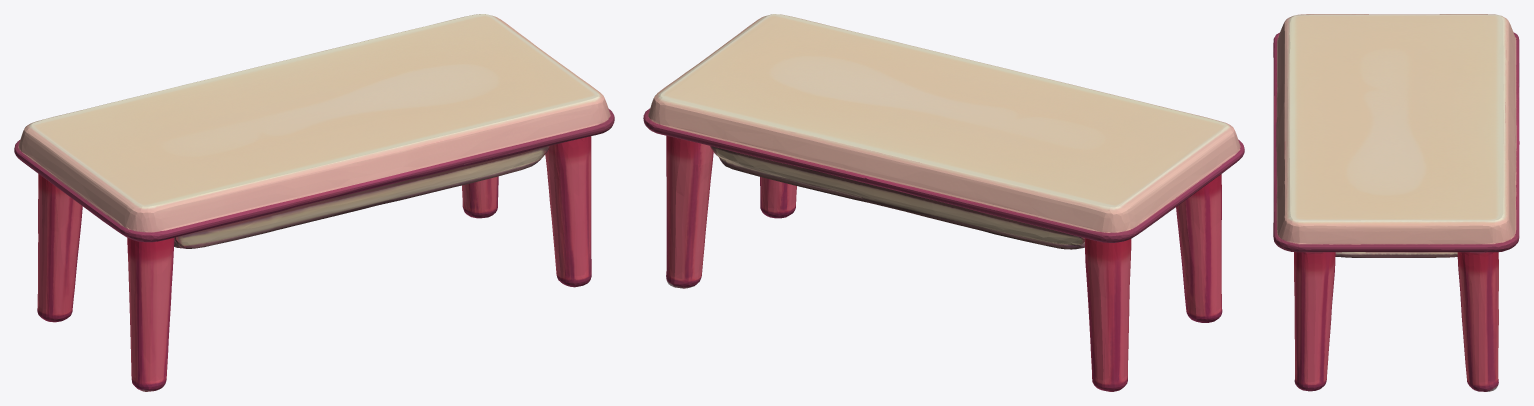
The picture shows the model from 3 angles, left to right: view 1: azimuth 30°, elevation 25°; view 2: azimuth 150°, elevation 25°; view 3: azimuth 270°, elevation 25°; orthographic projection. The views are drawn at different scales.
Visible parts, largest first — view 1: world; view 2: world; view 3: world.
Boxes of the visible parts, bbox=[...] form: world: bbox=[14, 14, 614, 391]; world: bbox=[643, 14, 1244, 391]; world: bbox=[1273, 14, 1519, 391].
Size of the model in its own units: 100 by 36.93 by 47.36.
1 material, 1 textured.
